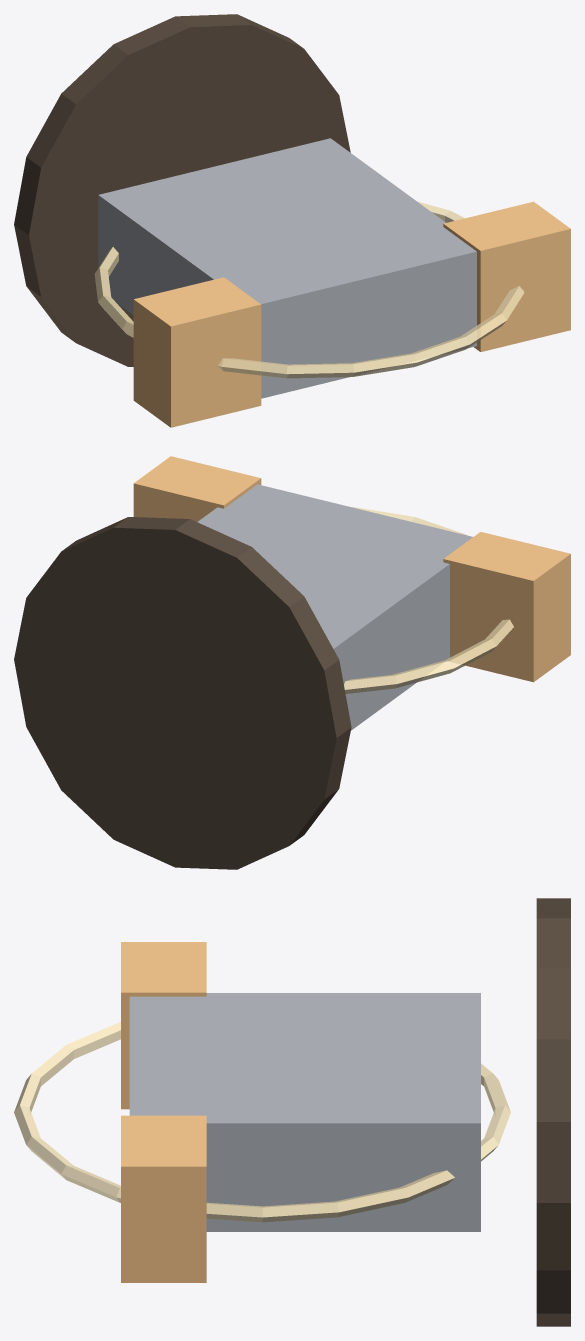
The model's file is 04_high_tier_magic_armor.glb.
3 renders of one model, top to bottom at view 1: azimuth 30°, elevation 25°; view 2: azimuth 150°, elevation 25°; view 3: azimuth 270°, elevation 25°, orthographic. The views are drawn at different scales.
Parts seen in each view (by area): view 1: chest_plate, armor_display_base, pauldron_l, pauldron_r, armor_barrier_ring; view 2: armor_display_base, chest_plate, pauldron_l, pauldron_r, armor_barrier_ring; view 3: chest_plate, armor_display_base, pauldron_r, armor_barrier_ring, pauldron_l.
Boxes of the visible parts, box(x1,y1,x2,y2) form: chest_plate: box(98, 138, 476, 398); armor_display_base: box(14, 14, 350, 366); pauldron_l: box(133, 277, 261, 427); pauldron_r: box(443, 201, 570, 351); armor_barrier_ring: box(94, 202, 524, 378); armor_display_base: box(14, 517, 351, 869); chest_plate: box(197, 484, 472, 730); pauldron_l: box(443, 532, 570, 682); pauldron_r: box(133, 456, 261, 521); armor_barrier_ring: box(344, 507, 513, 693); chest_plate: box(129, 993, 480, 1231); armor_display_base: box(536, 898, 570, 1326); pauldron_r: box(121, 1115, 206, 1282); armor_barrier_ring: box(14, 1022, 510, 1222); pauldron_l: box(121, 942, 206, 1109).
Bounding box in the file's own units: 1.24 × 1 × 1.3.
